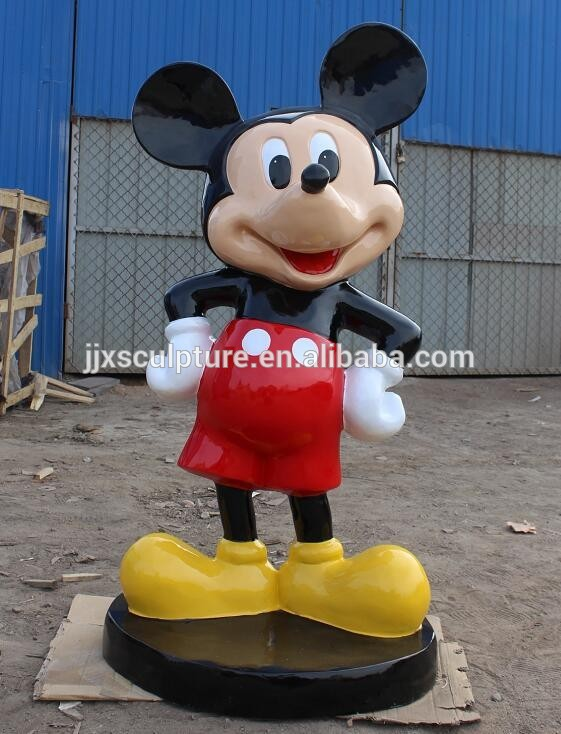Mickey: (128, 18, 429, 296)
